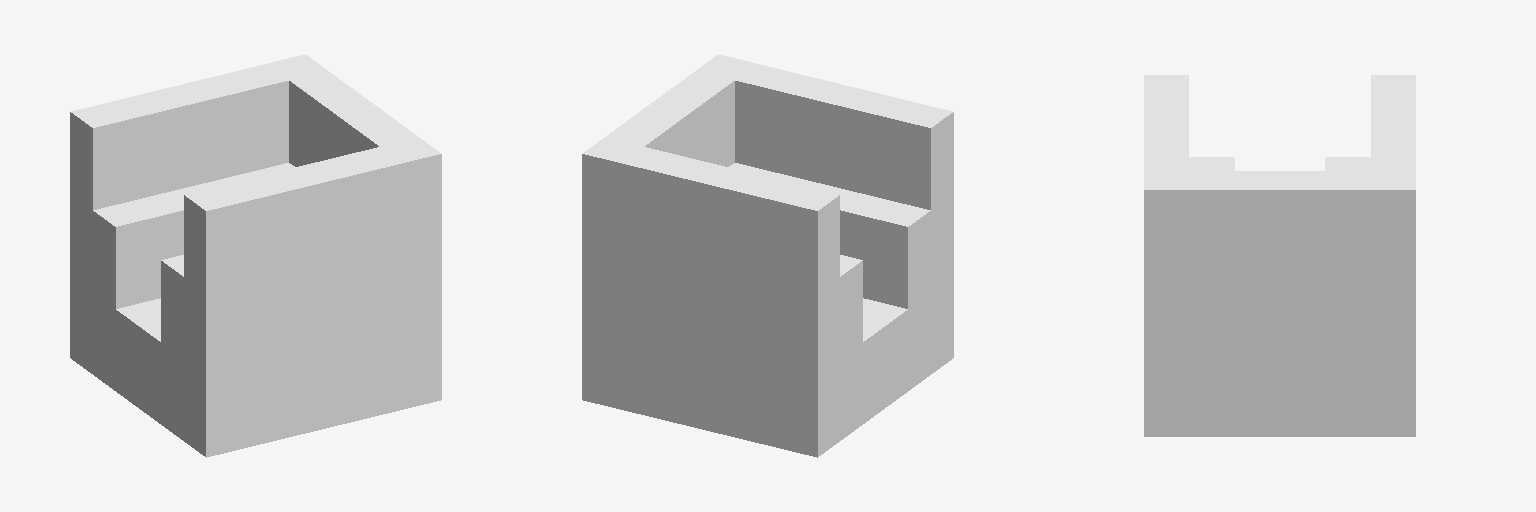
File: UBlock.obj
3 views of the same model, side by side, from view 1: azimuth 30°, elevation 25°; view 2: azimuth 150°, elevation 25°; view 3: azimuth 270°, elevation 25° (orthographic).
Parts seen in each view (by area): view 1: object 1; view 2: object 1; view 3: object 1.
Part boxes in pixels (left/top/right/bottom): object 1: left=70, top=54, right=441, bottom=457; object 1: left=582, top=54, right=953, bottom=457; object 1: left=1144, top=75, right=1415, bottom=436.
Bounding box in the file's own units: 0.6 × 0.6 × 0.6.